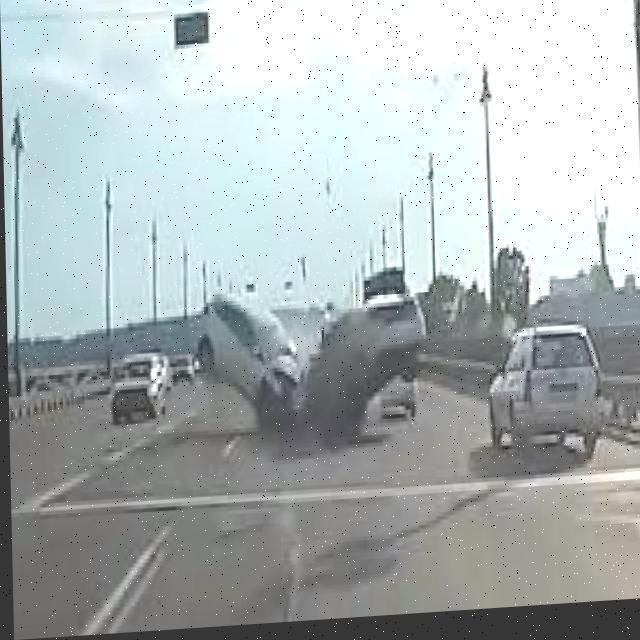multiple_accident: (190, 269, 421, 420)
normal: (494, 306, 604, 496), (114, 337, 170, 430)
